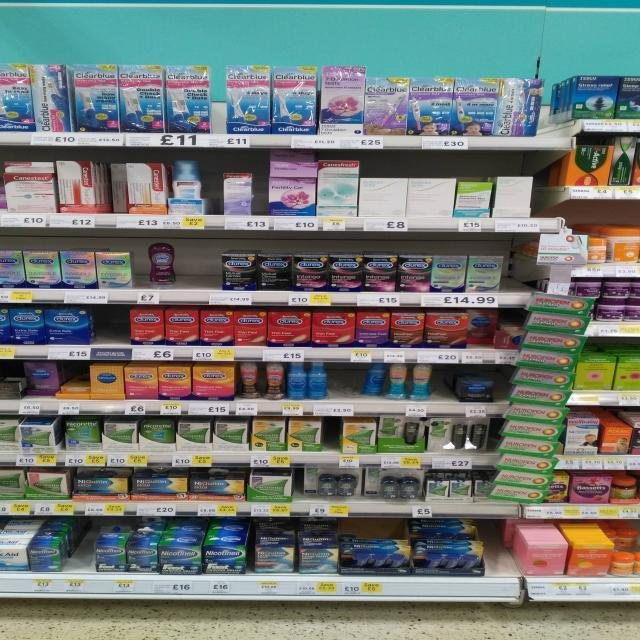empty: (180, 240, 220, 302), (329, 363, 362, 416), (97, 307, 130, 359), (72, 532, 94, 592), (504, 250, 526, 303), (486, 534, 504, 594), (432, 364, 444, 416), (326, 418, 338, 468), (494, 366, 502, 418)
